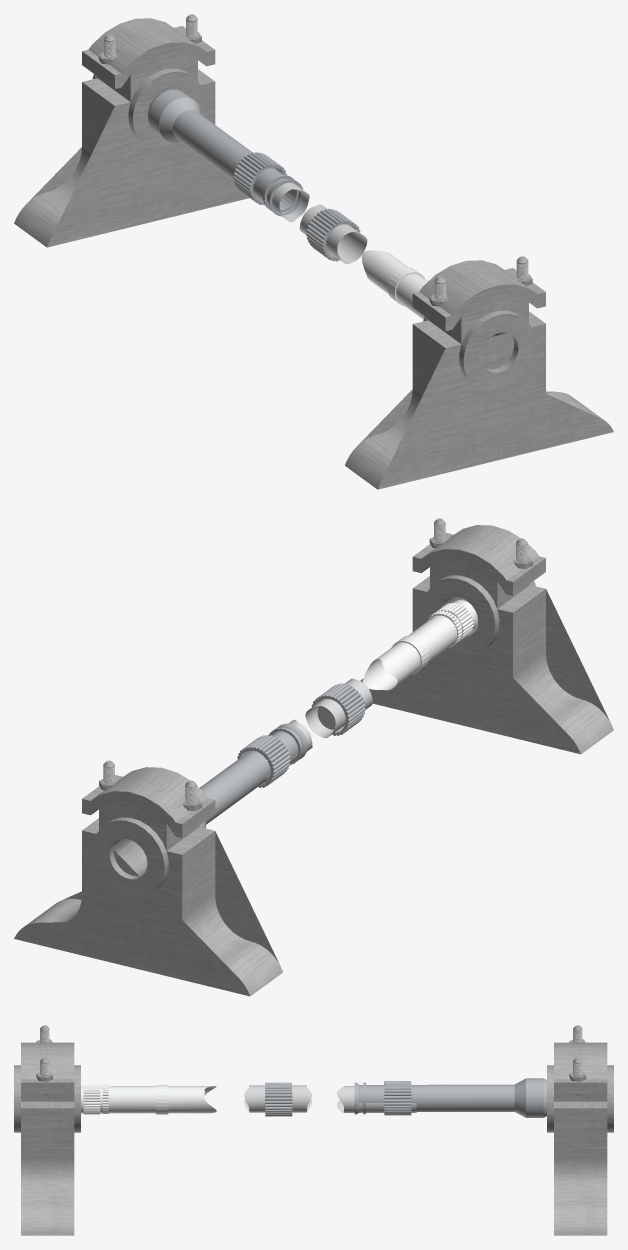
The picture shows the model from 3 angles, top to bottom: view 1: azimuth 30°, elevation 25°; view 2: azimuth 150°, elevation 25°; view 3: azimuth 270°, elevation 25°; orthographic projection. The views are drawn at different scales.
Parts seen in each view (by area): view 1: mount.001, mount, 1, 6.002, 7; view 2: mount, mount.001, 1, 7, 6.002; view 3: mount, mount.001, 1, 7, 6.002.
Boxes of the visible parts, x1,y1,x2,y2 form: mount.001: (345, 256, 613, 489); mount: (14, 14, 249, 247); 1: (148, 89, 309, 222); 6.002: (299, 204, 367, 264); 7: (361, 250, 427, 319); mount: (14, 760, 282, 996); mount.001: (360, 518, 613, 754); 1: (199, 719, 312, 828); 7: (363, 600, 477, 690); 6.002: (305, 678, 372, 738); mount: (547, 1025, 613, 1235); mount.001: (14, 1025, 80, 1235); 1: (336, 1078, 546, 1117); 7: (81, 1084, 216, 1114); 6.002: (244, 1082, 311, 1116).
Bounding box in the file's own units: 197 × 145 × 538.
Materials: 4 (2 with a texture image).
